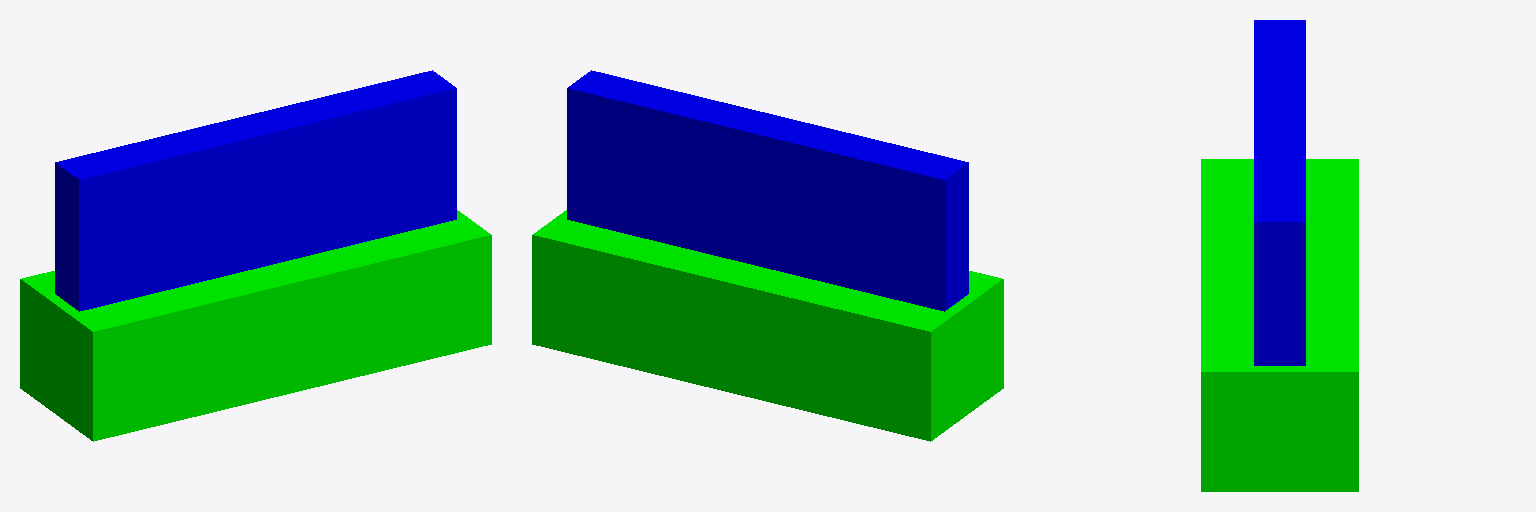
The robot description file, URDF, robot "robot":
<robot name = "robot">
    <link name="root">
        <inertial>
            <origin xyz="0.0 0.0 1.5" rpy="0 0 0"/>
            <mass value="1" />
            <inertia ixx="100" ixy="0" ixz="0" iyy="100" iyz="0" izz="100" />
        </inertial>
        <visual>
            <origin xyz="0.0 0.0 1.5" rpy="0 0 0"/>
            <geometry>
                <box size="0 0 0.0001" />
            </geometry>
            <material name="Green">
                <color rgba="0 1.0 0.0 1.0"/>
            </material>
        </visual>
        <collision>
            <origin xyz="0.0 0.0 1.5" rpy="0 0 0"/>
            <geometry>
                <box size="0 0 0.0001" />
            </geometry>
        </collision>
    </link>
    <joint name="root_000" type="revolute">
       <parent link="root"/>
       <child  link="000"/>
       <origin rpy="0 0 0" xyz="0.0 0.0 1.5" />
     <axis xyz="1 0 0"/>
       <limit effort="0.0" lower="-3.14159" upper="3.14159" velocity="0.0"/>
    </joint>
    <link name="000">
        <inertial>
            <origin xyz="0.3 0.0 0.0" rpy="0 0 0"/>
            <mass value="1" />
            <inertia ixx="100" ixy="0" ixz="0" iyy="100" iyz="0" izz="100" />
        </inertial>
        <visual>
            <origin xyz="0.3 0.0 0.0" rpy="0 0 0"/>
            <geometry>
                <box size="0.6 0.2 0.6" />
            </geometry>
            <material name="Blue">
                <color rgba="0 0.0 1.0 1.0"/>
            </material>
        </visual>
        <collision>
            <origin xyz="0.3 0.0 0.0" rpy="0 0 0"/>
            <geometry>
                <box size="0.6 0.2 0.6" />
            </geometry>
        </collision>
    </link>
    <joint name="000_010" type="revolute">
       <parent link="000"/>
       <child  link="010"/>
       <origin rpy="0 0 0" xyz="0.6 0.0 -0.0" />
     <axis xyz="1 0 0"/>
       <limit effort="0.0" lower="-3.14159" upper="3.14159" velocity="0.0"/>
    </joint>
    <link name="010">
        <inertial>
            <origin xyz="0.3 0.0 -0.0" rpy="0 0 0"/>
            <mass value="1" />
            <inertia ixx="100" ixy="0" ixz="0" iyy="100" iyz="0" izz="100" />
        </inertial>
        <visual>
            <origin xyz="0.3 0.0 -0.0" rpy="0 0 0"/>
            <geometry>
                <box size="0.6 0.2 0.6" />
            </geometry>
            <material name="Blue">
                <color rgba="0 0.0 1.0 1.0"/>
            </material>
        </visual>
        <collision>
            <origin xyz="0.3 0.0 -0.0" rpy="0 0 0"/>
            <geometry>
                <box size="0.6 0.2 0.6" />
            </geometry>
        </collision>
    </link>
    <joint name="010_020" type="revolute">
       <parent link="010"/>
       <child  link="020"/>
       <origin rpy="0 0 0" xyz="0.6 0.0 -0.0" />
     <axis xyz="1 0 0"/>
       <limit effort="0.0" lower="-3.14159" upper="3.14159" velocity="0.0"/>
    </joint>
    <link name="020">
        <inertial>
            <origin xyz="0.3 0.0 -0.0" rpy="0 0 0"/>
            <mass value="1" />
            <inertia ixx="100" ixy="0" ixz="0" iyy="100" iyz="0" izz="100" />
        </inertial>
        <visual>
            <origin xyz="0.3 0.0 -0.0" rpy="0 0 0"/>
            <geometry>
                <box size="0.6 0.2 0.6" />
            </geometry>
            <material name="Blue">
                <color rgba="0 0.0 1.0 1.0"/>
            </material>
        </visual>
        <collision>
            <origin xyz="0.3 0.0 -0.0" rpy="0 0 0"/>
            <geometry>
                <box size="0.6 0.2 0.6" />
            </geometry>
        </collision>
    </link>
    <joint name="020_020-100" type="revolute">
       <parent link="020"/>
       <child  link="020-100"/>
       <origin rpy="0 0 0" xyz="0.3 0.0 -0.3" />
     <axis xyz="0 0 1"/>
       <limit effort="0.0" lower="-3.14159" upper="3.14159" velocity="0.0"/>
    </joint>
    <link name="020-100">
        <inertial>
            <origin xyz="0.0 0.0 -0.25" rpy="0 0 0"/>
            <mass value="1" />
            <inertia ixx="100" ixy="0" ixz="0" iyy="100" iyz="0" izz="100" />
        </inertial>
        <visual>
            <origin xyz="0.0 0.0 -0.25" rpy="0 0 0"/>
            <geometry>
                <box size="0.7 0.6 0.5" />
            </geometry>
            <material name="Green">
                <color rgba="0 1.0 0.0 1.0"/>
            </material>
        </visual>
        <collision>
            <origin xyz="0.0 0.0 -0.25" rpy="0 0 0"/>
            <geometry>
                <box size="0.7 0.6 0.5" />
            </geometry>
        </collision>
    </link>
    <joint name="010_010-100" type="revolute">
       <parent link="010"/>
       <child  link="010-100"/>
       <origin rpy="0 0 0" xyz="0.3 0.0 -0.3" />
     <axis xyz="0 0 1"/>
       <limit effort="0.0" lower="-3.14159" upper="3.14159" velocity="0.0"/>
    </joint>
    <link name="010-100">
        <inertial>
            <origin xyz="0.0 0.0 -0.25" rpy="0 0 0"/>
            <mass value="1" />
            <inertia ixx="100" ixy="0" ixz="0" iyy="100" iyz="0" izz="100" />
        </inertial>
        <visual>
            <origin xyz="0.0 0.0 -0.25" rpy="0 0 0"/>
            <geometry>
                <box size="0.7 0.6 0.5" />
            </geometry>
            <material name="Green">
                <color rgba="0 1.0 0.0 1.0"/>
            </material>
        </visual>
        <collision>
            <origin xyz="0.0 0.0 -0.25" rpy="0 0 0"/>
            <geometry>
                <box size="0.7 0.6 0.5" />
            </geometry>
        </collision>
    </link>
    <joint name="000_000-100" type="revolute">
       <parent link="000"/>
       <child  link="000-100"/>
       <origin rpy="0 0 0" xyz="0.3 0.0 -0.3" />
     <axis xyz="0 0 1"/>
       <limit effort="0.0" lower="-3.14159" upper="3.14159" velocity="0.0"/>
    </joint>
    <link name="000-100">
        <inertial>
            <origin xyz="0.0 0.0 -0.25" rpy="0 0 0"/>
            <mass value="1" />
            <inertia ixx="100" ixy="0" ixz="0" iyy="100" iyz="0" izz="100" />
        </inertial>
        <visual>
            <origin xyz="0.0 0.0 -0.25" rpy="0 0 0"/>
            <geometry>
                <box size="0.7 0.6 0.5" />
            </geometry>
            <material name="Green">
                <color rgba="0 1.0 0.0 1.0"/>
            </material>
        </visual>
        <collision>
            <origin xyz="0.0 0.0 -0.25" rpy="0 0 0"/>
            <geometry>
                <box size="0.7 0.6 0.5" />
            </geometry>
        </collision>
    </link>
</robot>

--- What the picture shows (computed from the rendered views, not written in the file) ---
The picture shows the robot from 3 angles, left to right: view 1: azimuth 30°, elevation 25°; view 2: azimuth 150°, elevation 25°; view 3: azimuth 270°, elevation 25°; orthographic projection.
Robot: robot — 7 links, 6 joints (6 revolute); root link root; default pose: all joints at 0.
Visible links, largest first — view 1: 000-100, 000, 010, 020, 020-100, 010-100; view 2: 000-100, 000, 010, 020, 020-100, 010-100; view 3: 020-100, 020, 000-100, 010-100, 000, 010.
Link boxes in pixels (bbox=[...]): 000-100: bbox=[20, 271, 239, 441]; 000: bbox=[55, 132, 204, 311]; 010: bbox=[182, 101, 330, 280]; 020: bbox=[308, 70, 456, 249]; 020-100: bbox=[321, 210, 491, 379]; 010-100: bbox=[195, 248, 365, 410]; 000-100: bbox=[784, 271, 1003, 441]; 000: bbox=[819, 132, 968, 311]; 010: bbox=[693, 101, 841, 280]; 020: bbox=[567, 70, 715, 249]; 020-100: bbox=[532, 210, 702, 379]; 010-100: bbox=[658, 249, 828, 410]; 020-100: bbox=[1201, 293, 1358, 491]; 020: bbox=[1254, 155, 1305, 365]; 000-100: bbox=[1201, 159, 1358, 236]; 010-100: bbox=[1201, 226, 1358, 303]; 000: bbox=[1254, 20, 1305, 87]; 010: bbox=[1254, 88, 1305, 154].
Size in the robot's own frame: 1.9 by 0.6 by 1.1 metres.
Geometry: primitives only (box / cylinder / sphere), no mesh files.